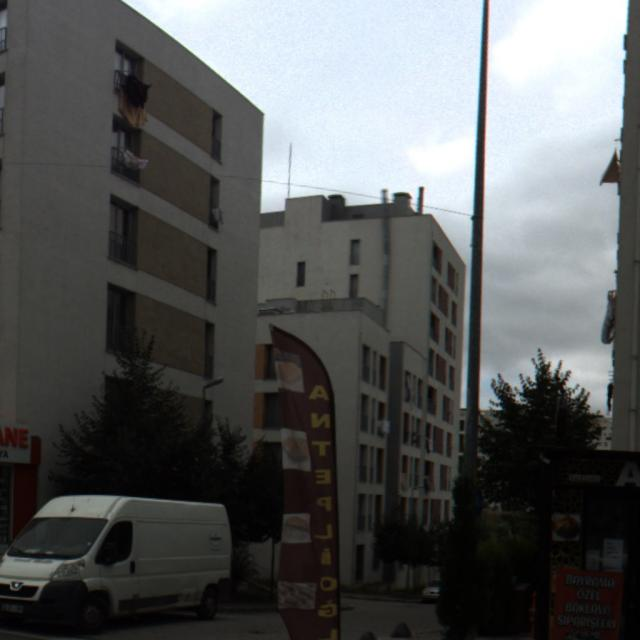SignStore: (553, 458, 638, 488), (3, 423, 30, 464)
